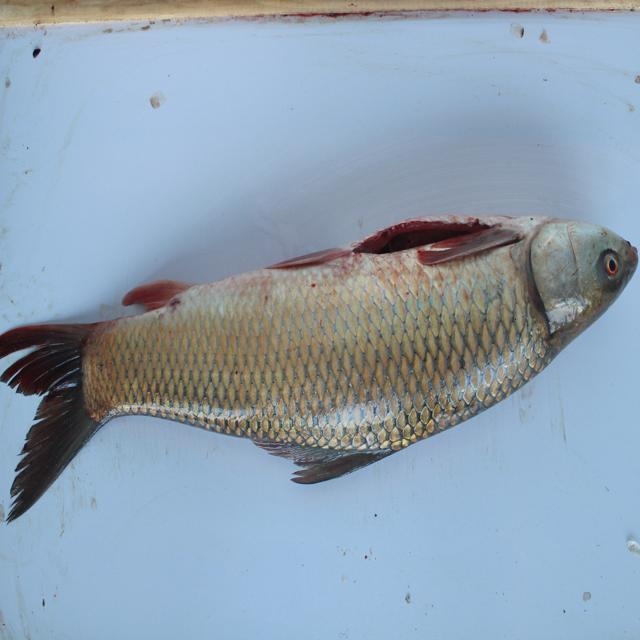Mori: (1, 211, 640, 509)
